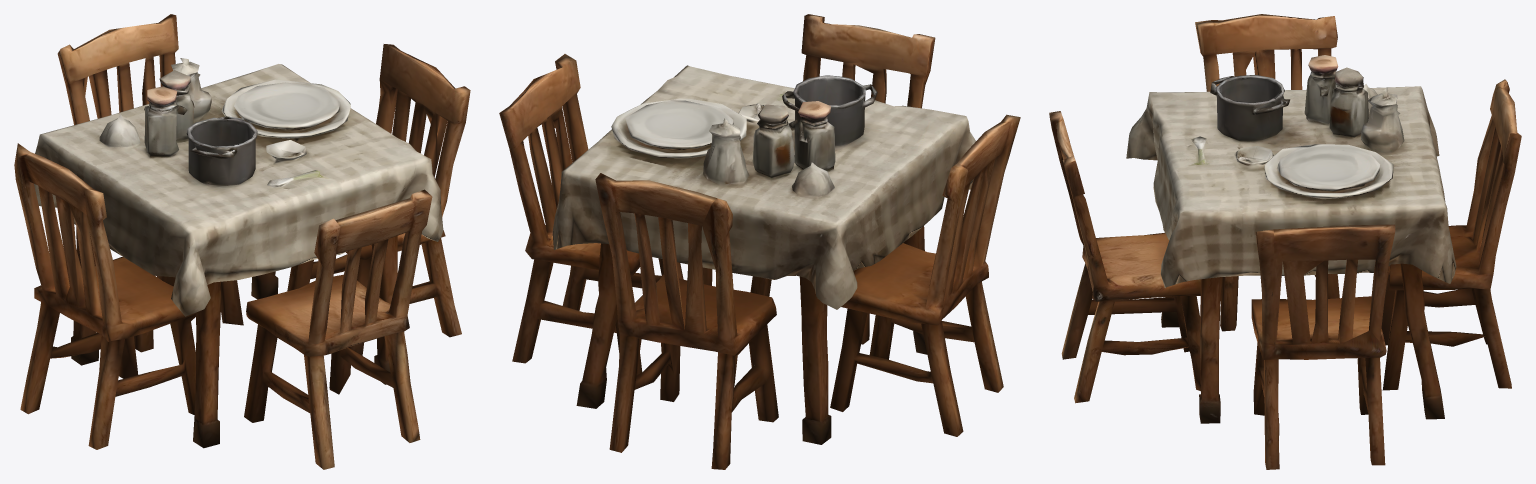
Rendered from kh_table_set.glb.
3 views of the same model, side by side, from view 1: azimuth 30°, elevation 25°; view 2: azimuth 150°, elevation 25°; view 3: azimuth 270°, elevation 25° (orthographic). The views are drawn at different scales.
Parts seen in each view (by area): view 1: tripo_node_d1af469a-10ef-4294-b5af-7612578ad38b; view 2: tripo_node_d1af469a-10ef-4294-b5af-7612578ad38b; view 3: tripo_node_d1af469a-10ef-4294-b5af-7612578ad38b.
Part boxes in pixels (box(x1,y1,x2,y2)): tripo_node_d1af469a-10ef-4294-b5af-7612578ad38b: box(14, 14, 470, 469); tripo_node_d1af469a-10ef-4294-b5af-7612578ad38b: box(499, 14, 1020, 469); tripo_node_d1af469a-10ef-4294-b5af-7612578ad38b: box(1049, 14, 1521, 469).
Size of the model in its own units: 1 by 0.6491 by 0.991.
Materials: 1 (1 with a texture image).
